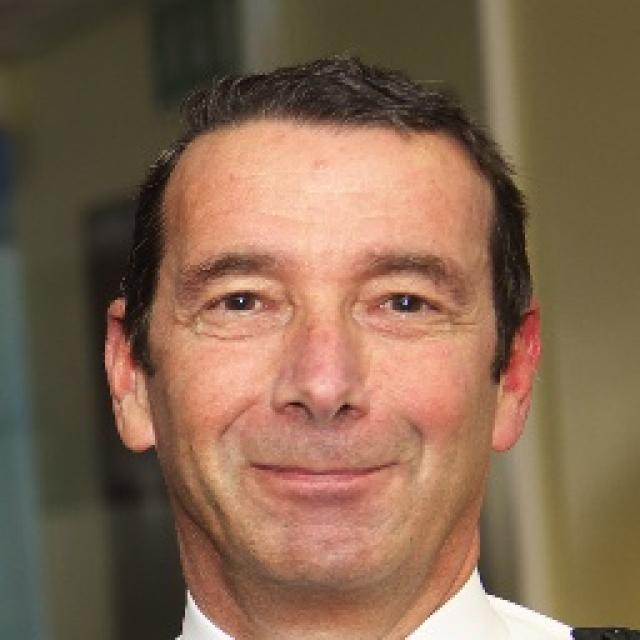earlobe: (492, 298, 543, 454), (106, 298, 156, 454)
